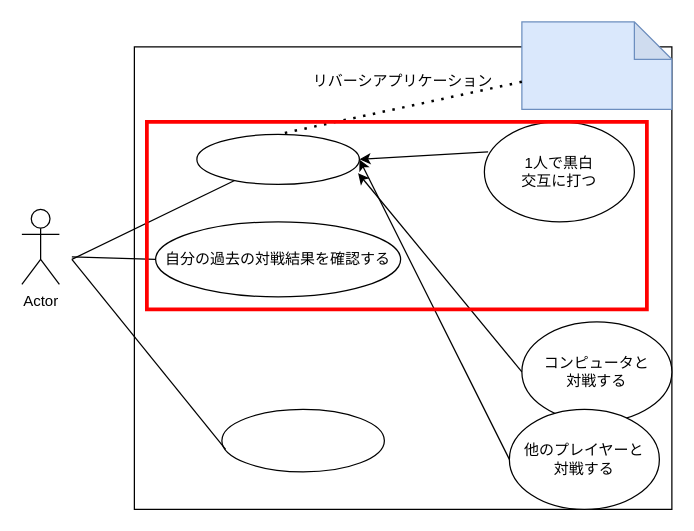
Image size: 694x531. Some labels were removed from this diagram. Here are the shapes that lost their labels. From the top down, the centre of each, then its label:
(596,65): ・対戦を開始する ・盤面を見る ・石をうつ ・勝敗を確認する
(277,158): 対戦する
(302,440): 会員登録する・ ログインする
